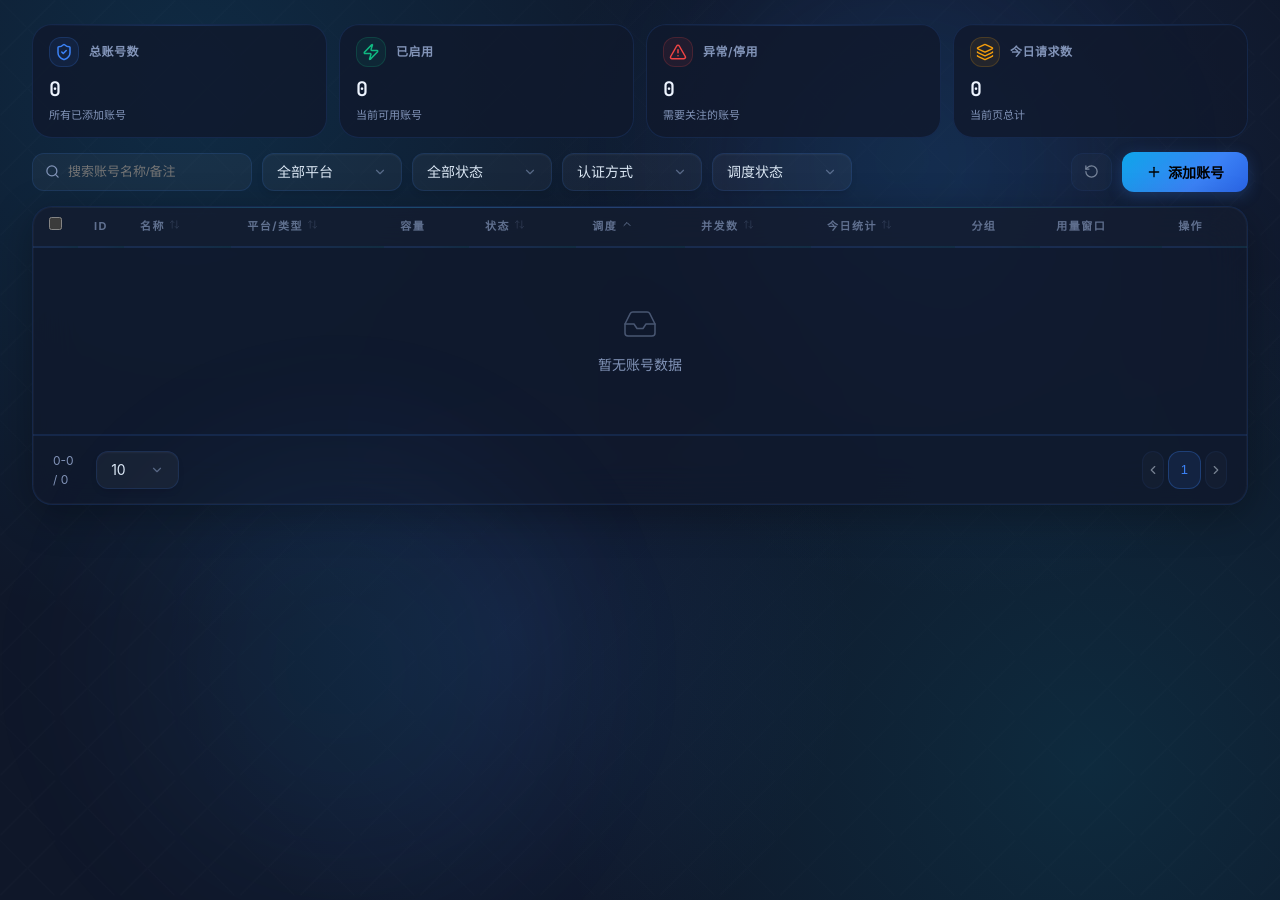
Test: Accounts page › shows blocked reason on create step 1 until required identity is filled
Click the button "添加账号": (1185, 172) [1122,152,1248,192]
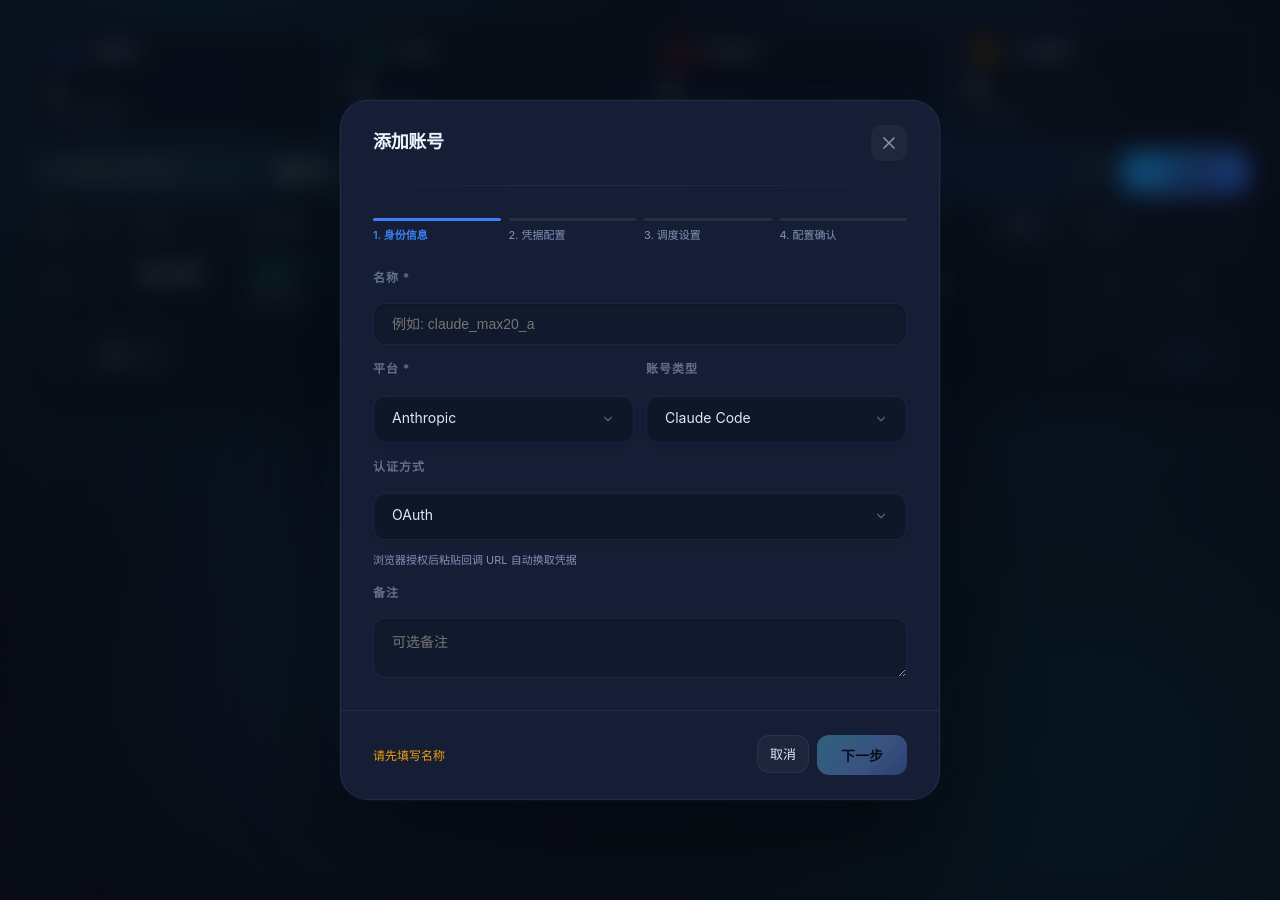
Check: the button "下一步" is disabled, box [817,736,907,776]
In the field: (640, 324) [373,303,907,345], type "claude_max20_a"
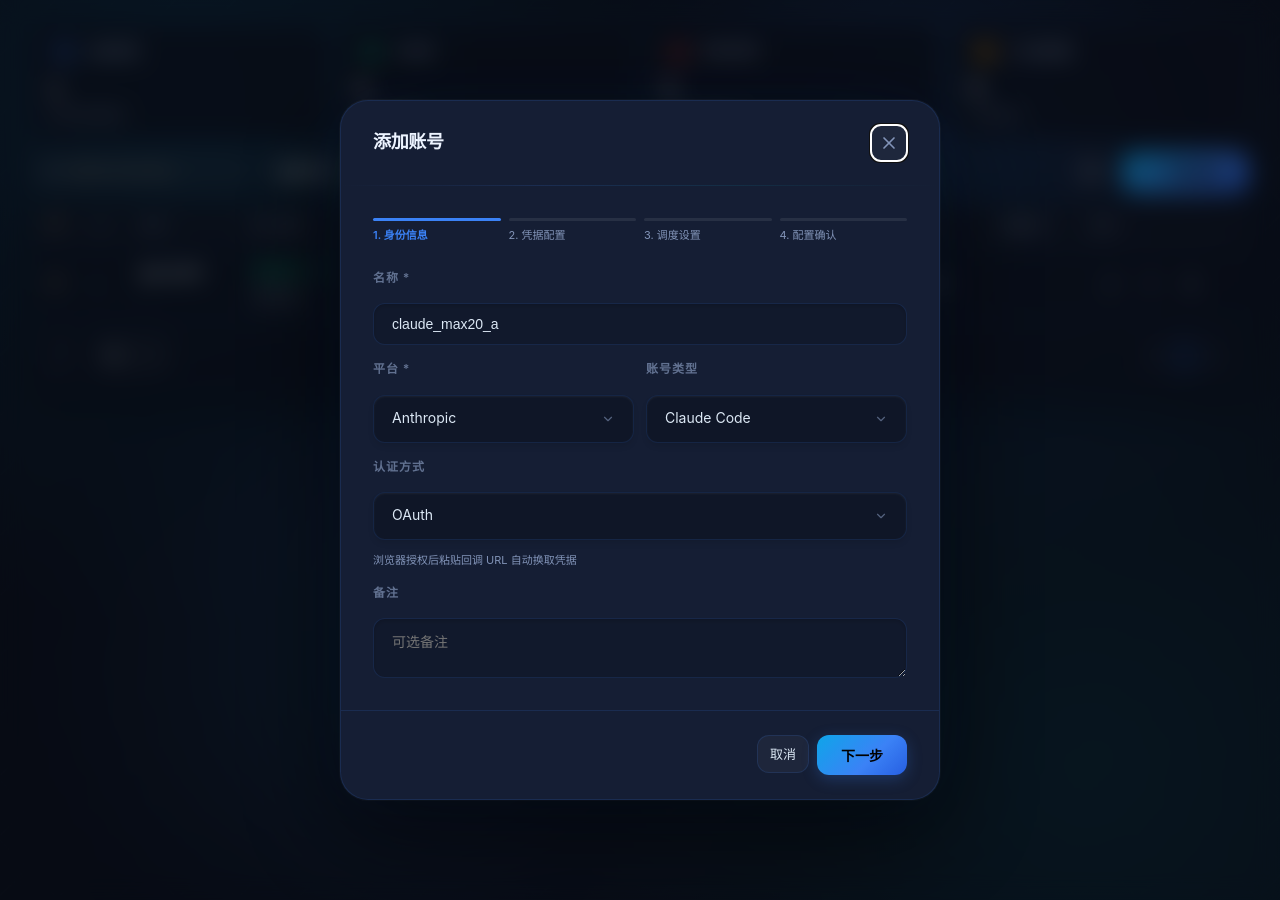
Check: the button "下一步" is enabled, box [817,736,907,776]
Check: the text with test id "wizard-next-blocked-reason" is gone
